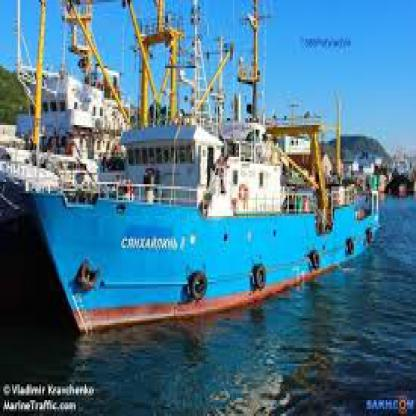fish-b: (1, 113, 389, 336)
